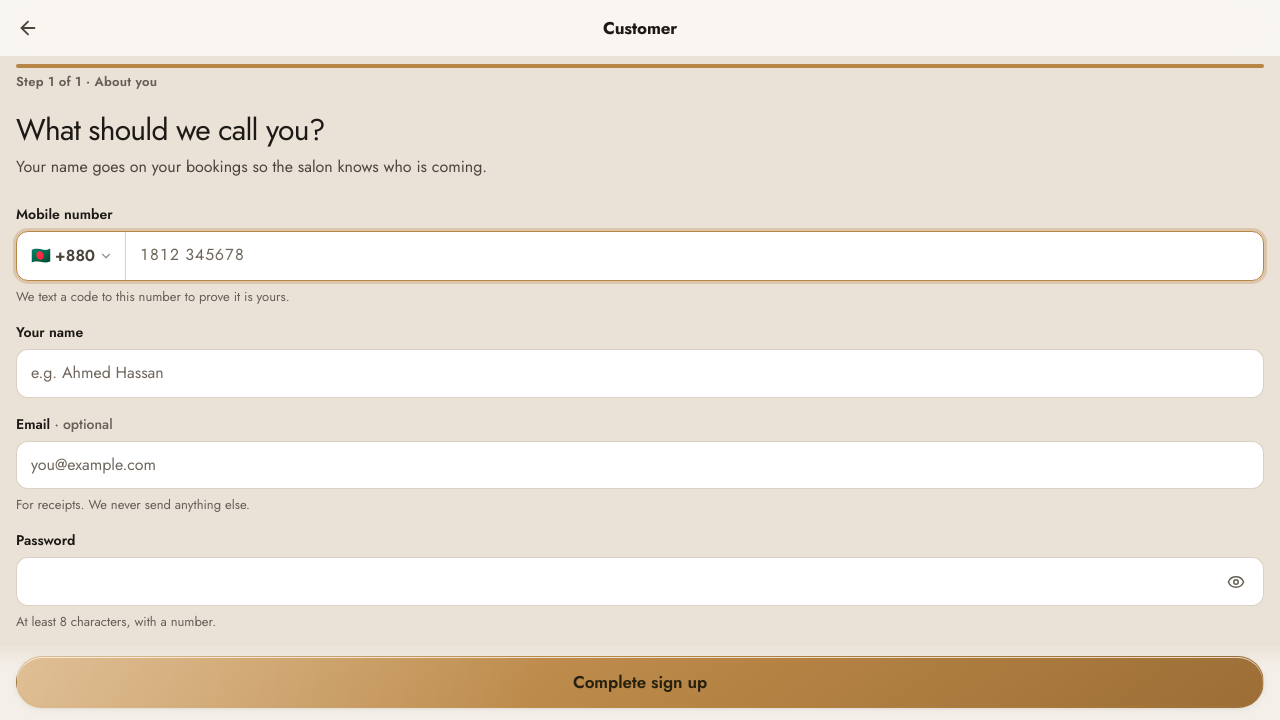
Scenario: what the sign-up asks › still asks for the terms, because the server will not do without them
In the field labelled "Mobile number": (694, 256) [126, 232, 1263, 280], type "1712345678"
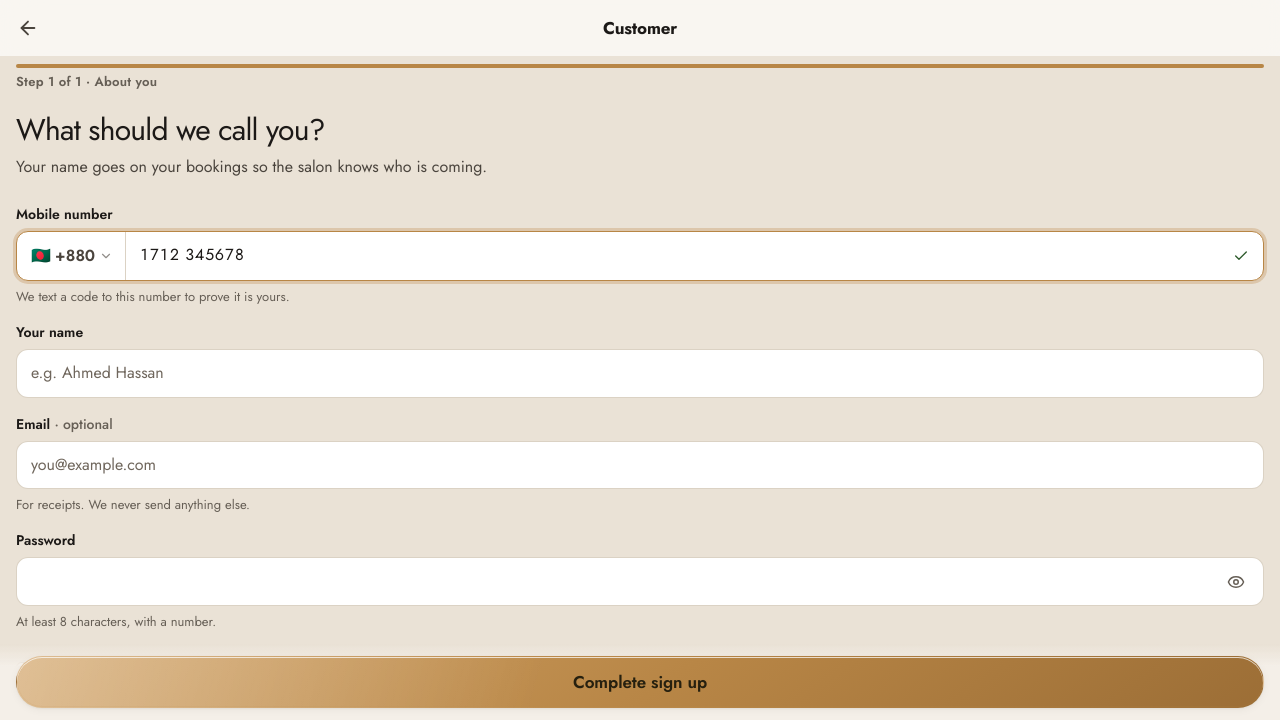
In the field labelled "Your name": (640, 373) [16, 349, 1264, 398], type "Test Person"
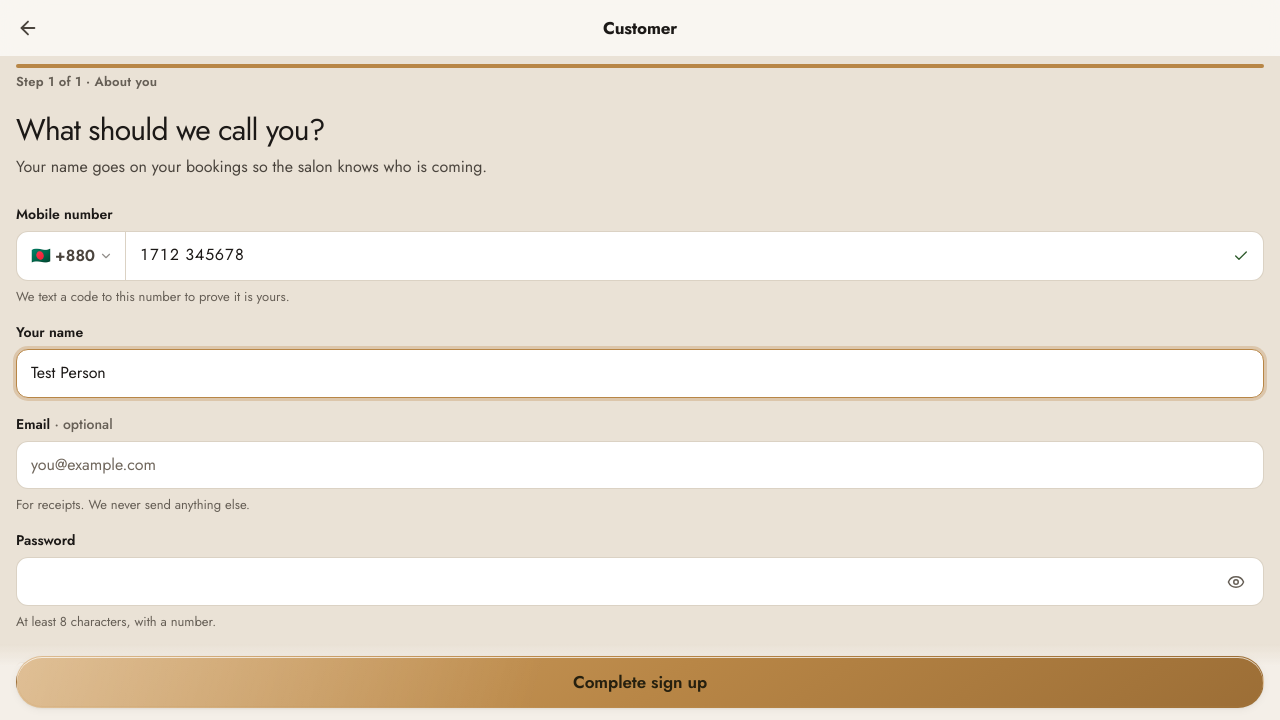
In the password field labelled "Password": (640, 582) [16, 558, 1264, 606], type "Passw0rd99"
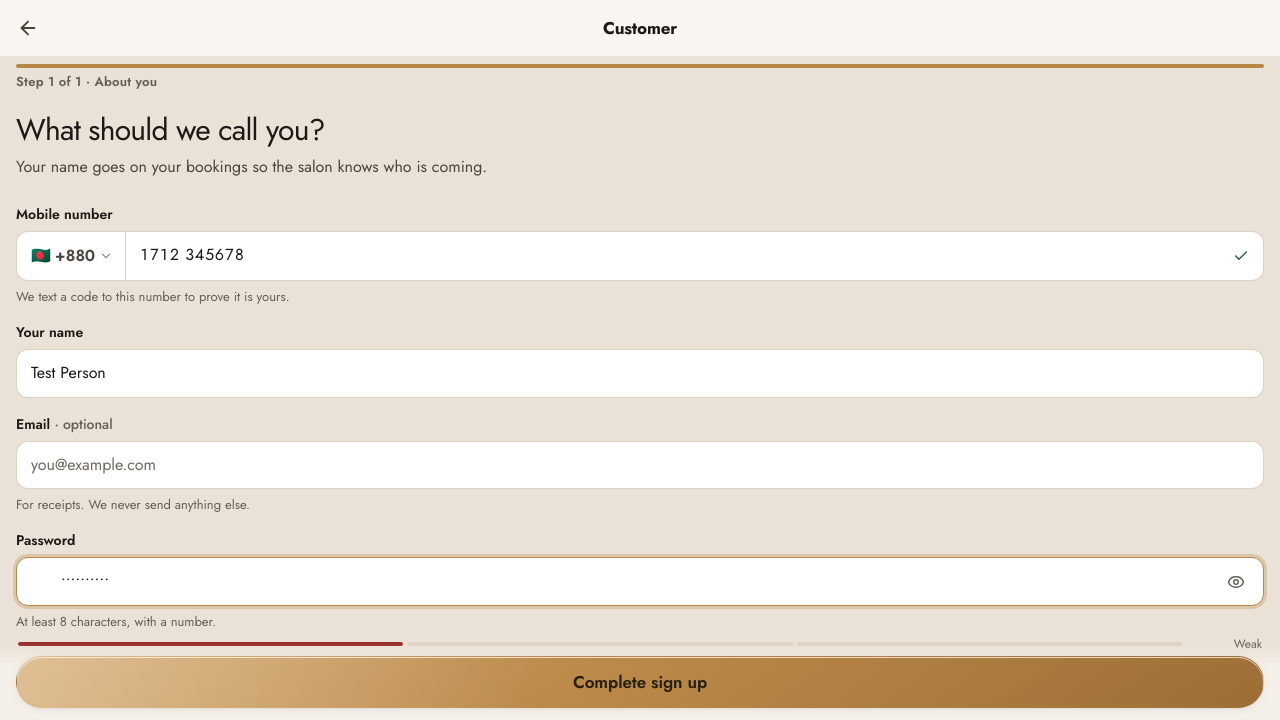
Click the button "Complete sign up": (640, 682) [16, 656, 1264, 708]
(page scrolled)
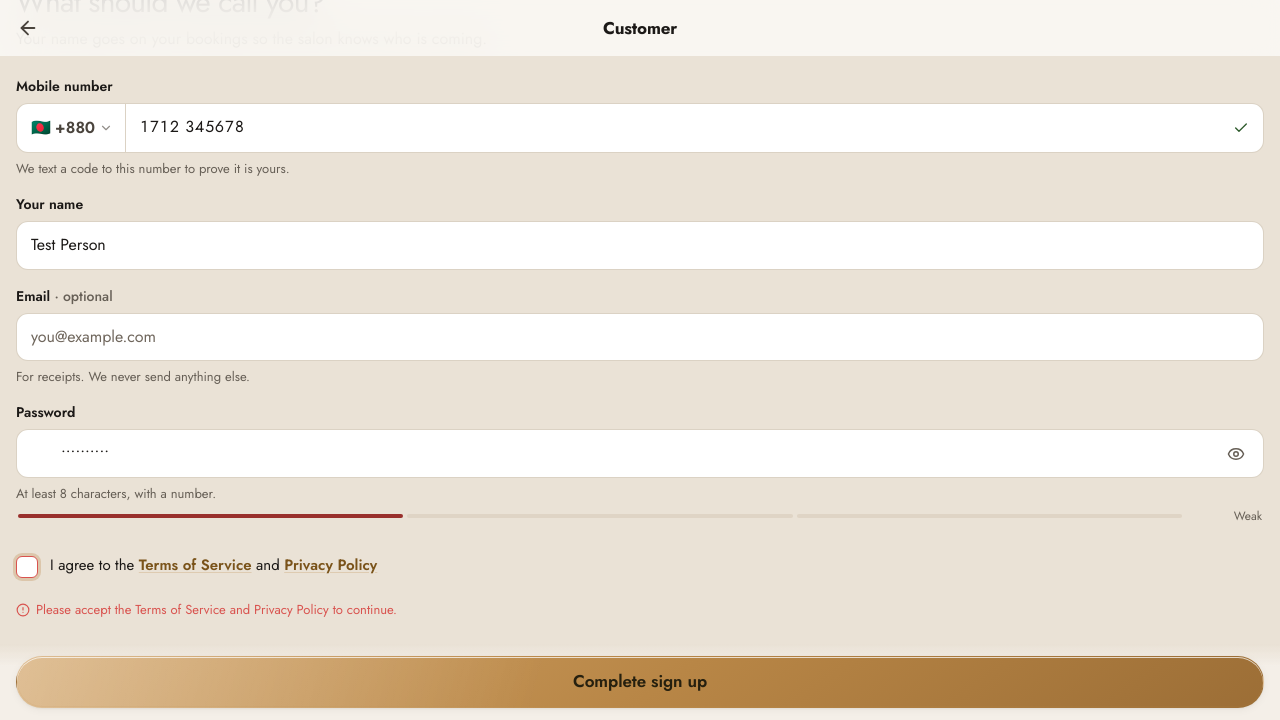
Expected: the message reads "Please accept the Terms of Service and Privacy Policy to continue.", [36, 600, 397, 619]
